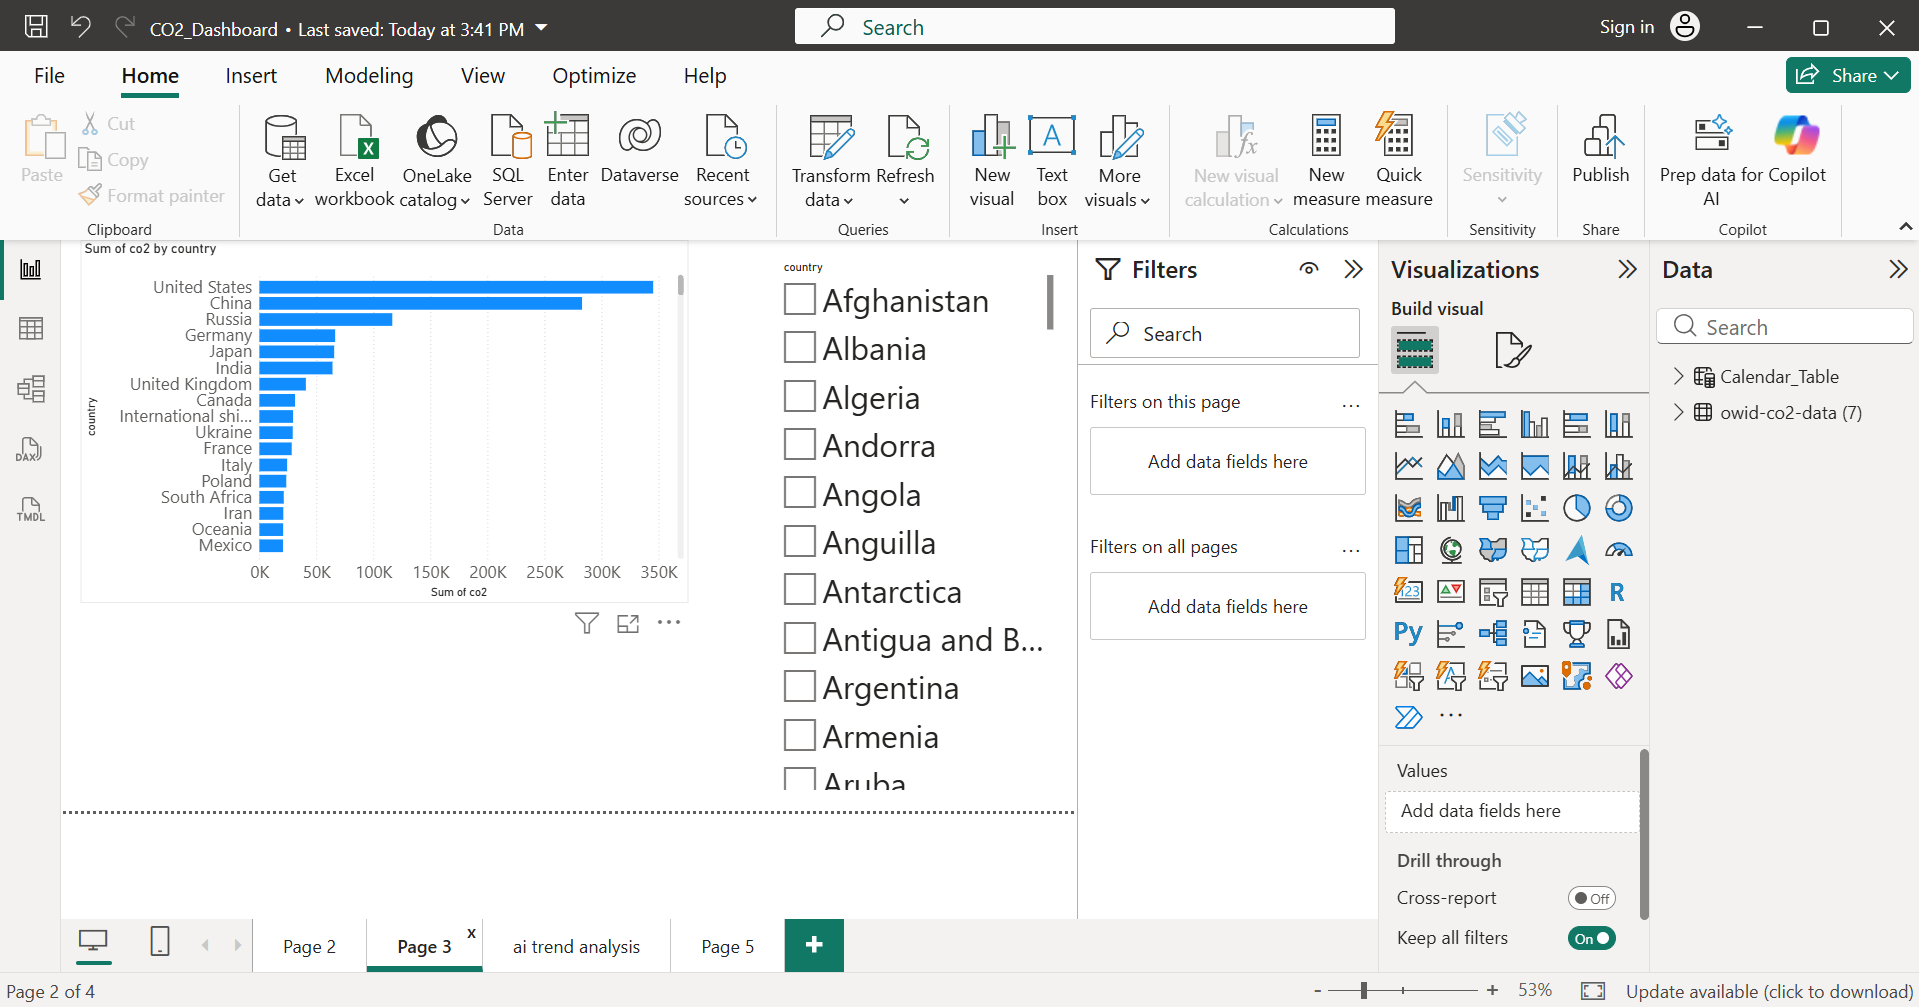

Layout of this report page (visuals, bound fields, positions):
{"tool":"powerbi","page":{"name":"Page 3","canvas":[1280,720],"ordinal":1},"visuals":[{"type":"clusteredBarChart","fields":{"Category":["owid-co2-data (7).country"],"Y":["Sum(owid-co2-data (7).co2)"]},"box":[25,0,765,456.7],"z":0},{"type":"slicer","fields":{"Values":["owid-co2-data (7).country"]},"box":[898.1,21.2,357.7,676.9],"z":1000}]}

Visuals, with their boxes on the page's 1280x720 design canvas (x1, y1, x2, y2). These are canvas units, not pixel positions in the 1919x1007 screenshot, which may show the page scaled, cropped or inside an application window:
clusteredBarChart - owid-co2-data (7).country x Sum(owid-co2-data (7).co2): BBox(25, 0, 790, 457)
slicer - owid-co2-data (7).country: BBox(898, 21, 1256, 698)
